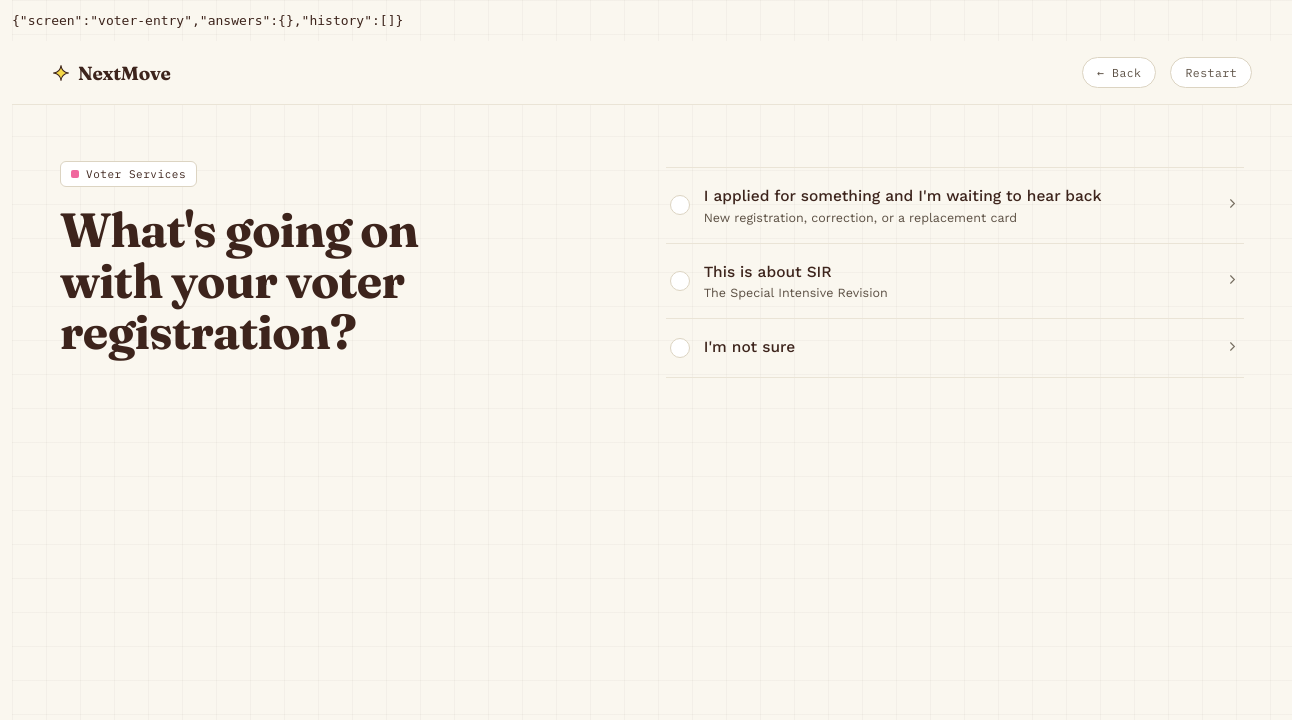
Scenario: voter entry (FR-V-03, AC-V-1, AC-V-2) › AC-V-2: "I'm not sure" shows the inline explainer, navigates nowhere, and stores no answer
Click the button "I'm not sure" at (749, 347), box [666,319,1244,378]
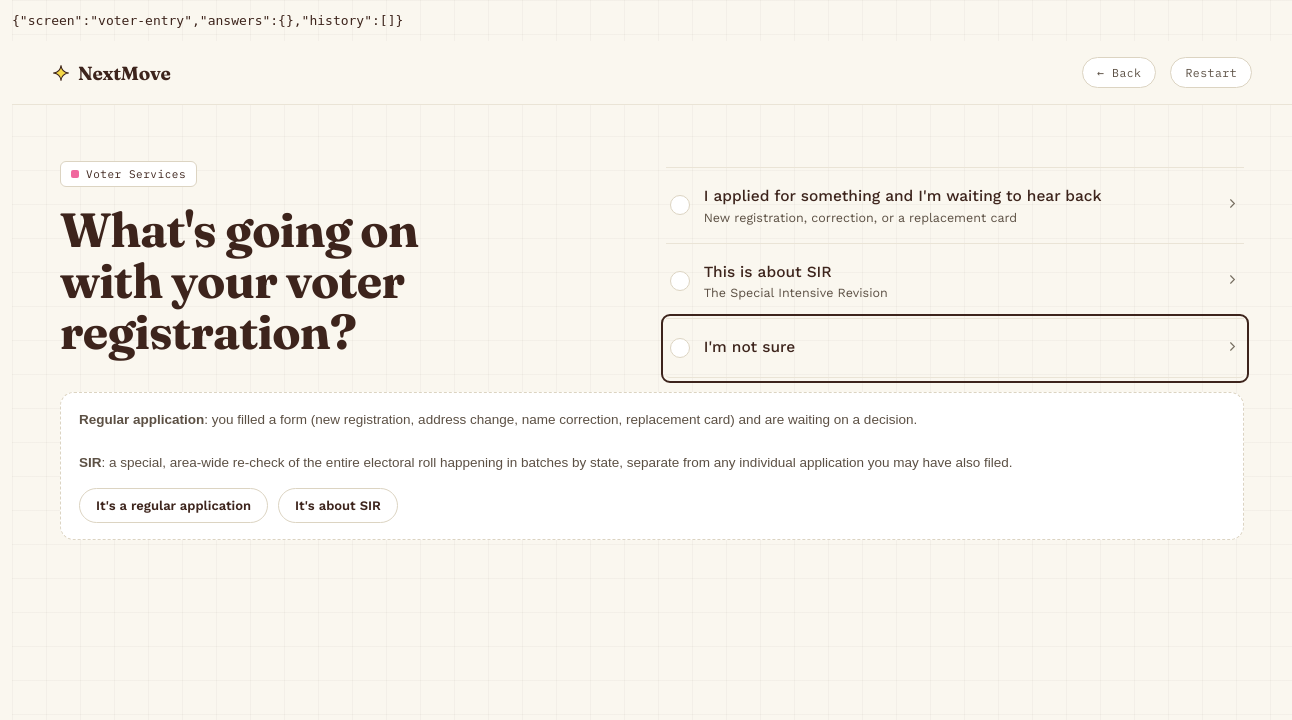
Result: the button "It's a regular application" is shown at [79,488,268,523]
Result: the button "It's about SIR" is shown at [278,488,398,523]
